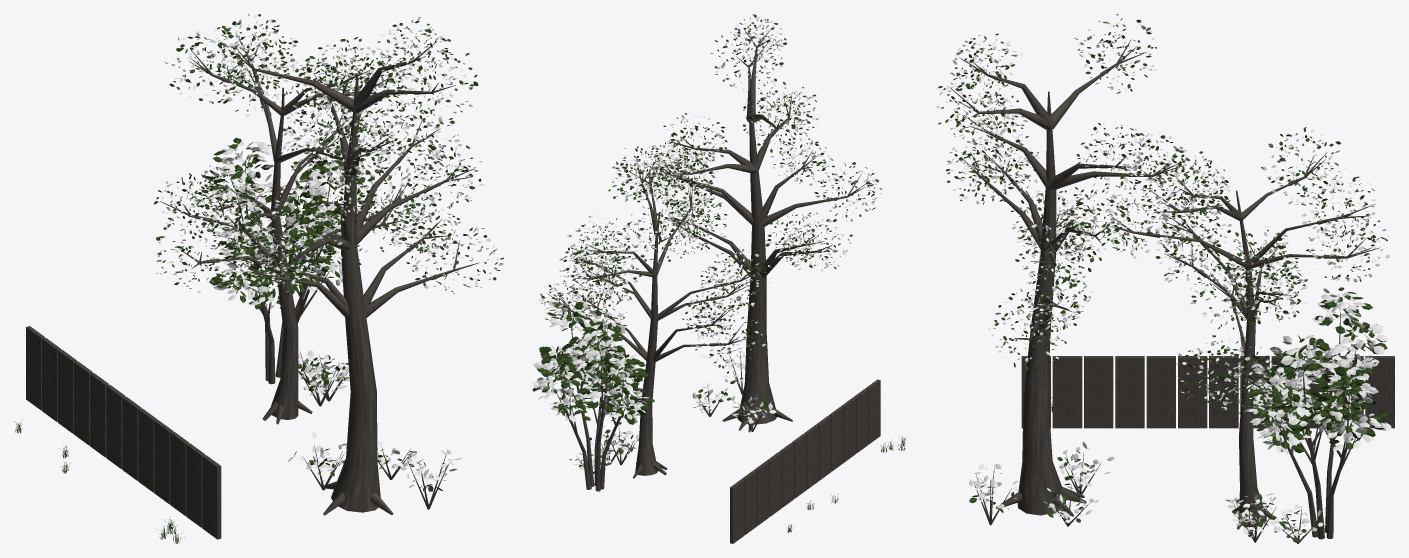
File: SM_Env_Tile_p2_p0.fbx
3 views of the same model, side by side, from view 1: azimuth 30°, elevation 25°; view 2: azimuth 150°, elevation 25°; view 3: azimuth 270°, elevation 25° (orthographic). The views are drawn at different scales.
Visible parts, largest first — view 1: SM_Env_Tile_p2_p0; view 2: SM_Env_Tile_p2_p0; view 3: SM_Env_Tile_p2_p0.
Part boxes in pixels (x1,y1,x2,y2): SM_Env_Tile_p2_p0: [14, 14, 503, 543]; SM_Env_Tile_p2_p0: [532, 14, 906, 543]; SM_Env_Tile_p2_p0: [935, 14, 1394, 543].
Size of what is drawn, in the model's own units: 1364 by 1470 by 1707.
Materials: 6 (3 with a texture image).
